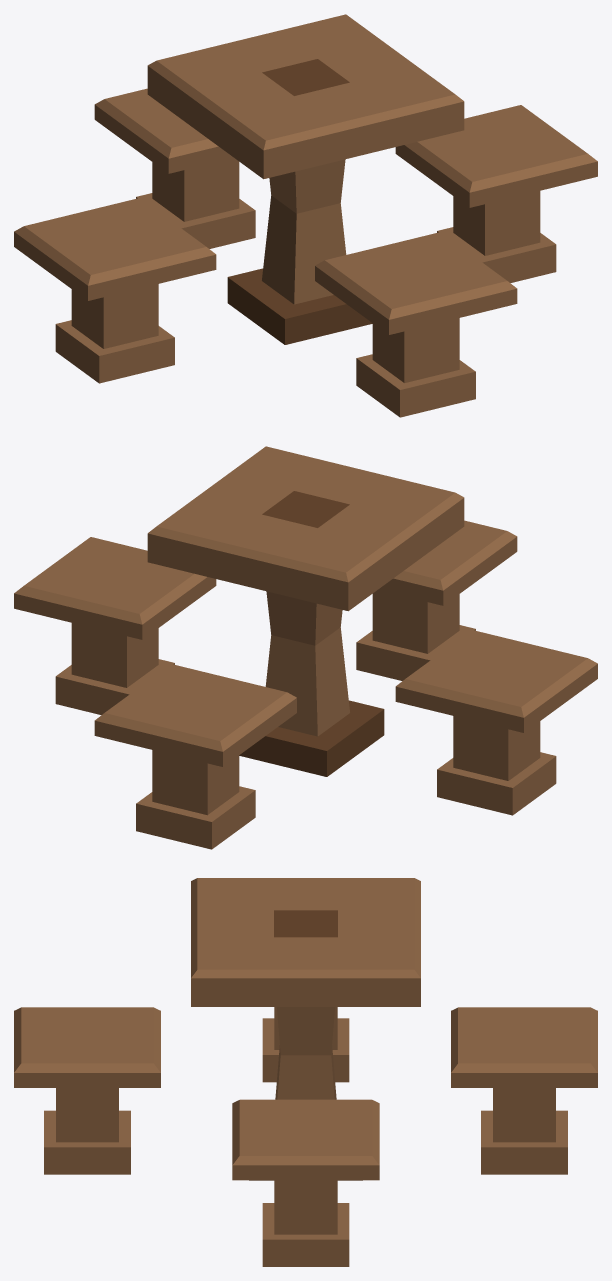
File: TableSet_01.fbx
3 renders of one model, top to bottom at view 1: azimuth 30°, elevation 25°; view 2: azimuth 150°, elevation 25°; view 3: azimuth 270°, elevation 25°, orthographic.
Parts seen in each view (by area): view 1: TableSet_01; view 2: TableSet_01; view 3: TableSet_01.
Boxes of the visible parts, <box> form: TableSet_01: <box>14,14,597,417</box>; TableSet_01: <box>14,446,597,849</box>; TableSet_01: <box>14,878,597,1266</box>.
Size of the model in its own units: 3.34 by 1.47 by 3.34.
